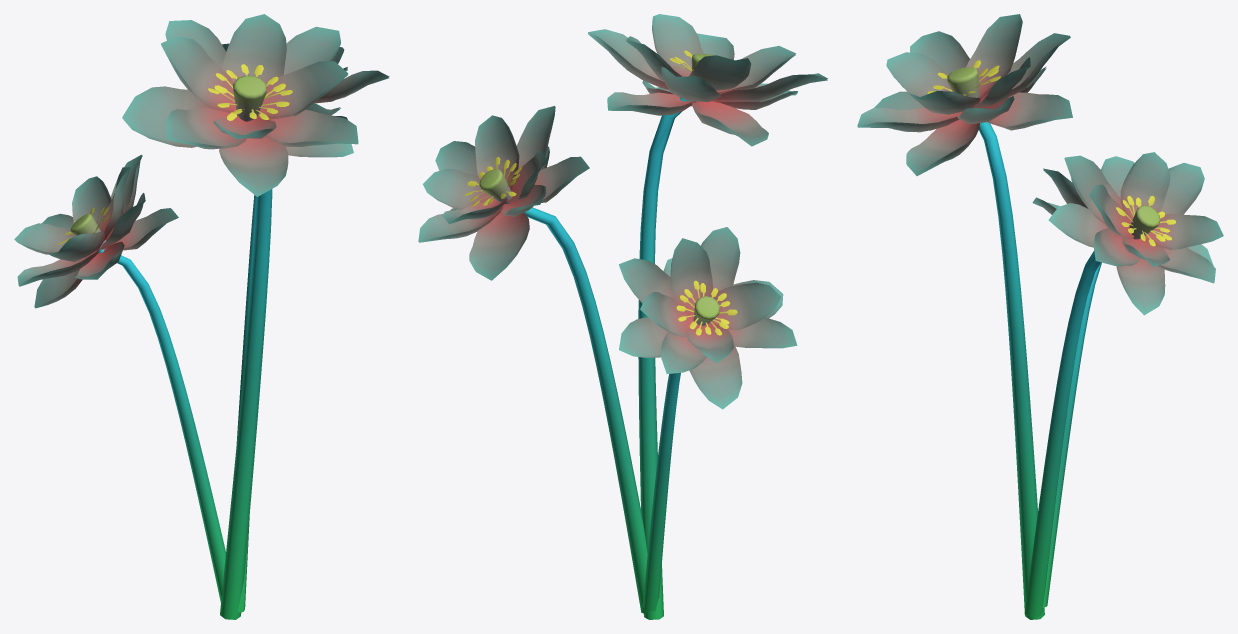
File: OBJ_AetherLotus.fbx
3 views of the same model, side by side, from view 1: azimuth 30°, elevation 25°; view 2: azimuth 150°, elevation 25°; view 3: azimuth 270°, elevation 25° (orthographic). The views are drawn at different scales.
Parts seen in each view (by area): view 1: OBJ_AetherLotus; view 2: OBJ_AetherLotus; view 3: OBJ_AetherLotus.
Boxes of the visible parts, left/top/right/bottom form: OBJ_AetherLotus: left=14, top=14, right=389, bottom=619; OBJ_AetherLotus: left=418, top=14, right=827, bottom=619; OBJ_AetherLotus: left=857, top=14, right=1223, bottom=619.
Size of the model in its own units: 70.47 by 108 by 63.34.
